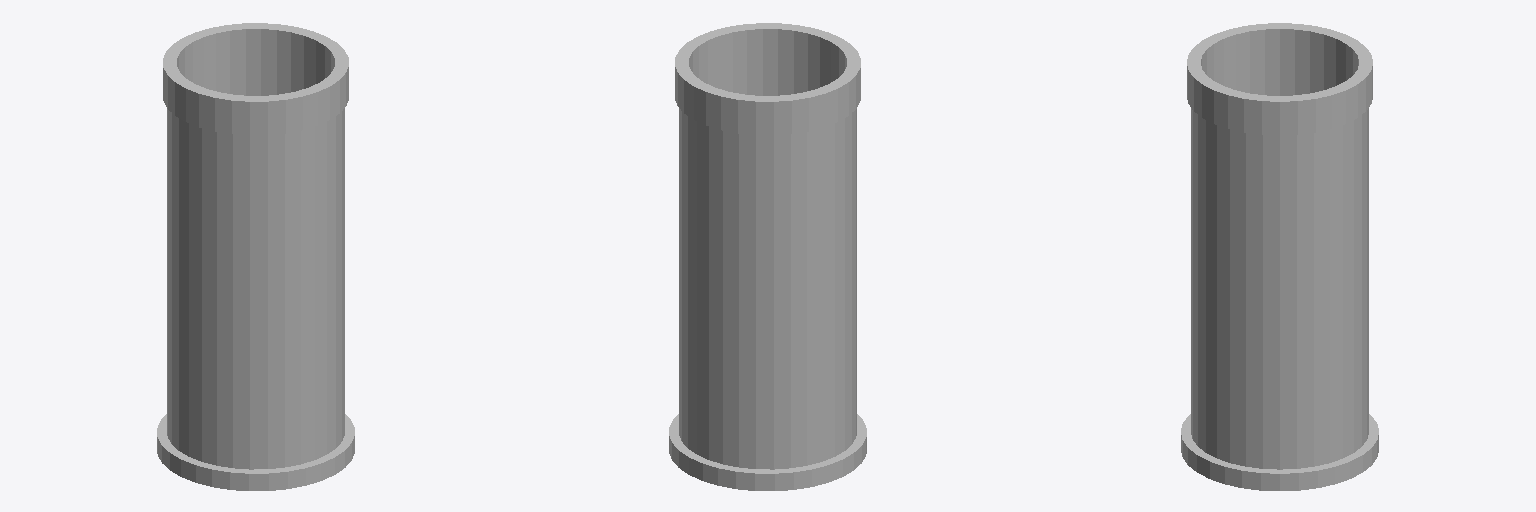
Rendered from GrenadeLauncherBarrel.obj.
3 renders of one model, left to right at view 1: azimuth 30°, elevation 25°; view 2: azimuth 150°, elevation 25°; view 3: azimuth 270°, elevation 25°, orthographic.
Visible parts, largest first — view 1: MGCooledBarrel:7; view 2: MGCooledBarrel:7; view 3: MGCooledBarrel:7.
Part boxes in pixels (x1,y1,x2,y2): MGCooledBarrel:7: (157,23,354,490); MGCooledBarrel:7: (669,23,866,490); MGCooledBarrel:7: (1181,23,1378,490).
Size of the model in its own units: 4.44 by 9.55 by 4.44.